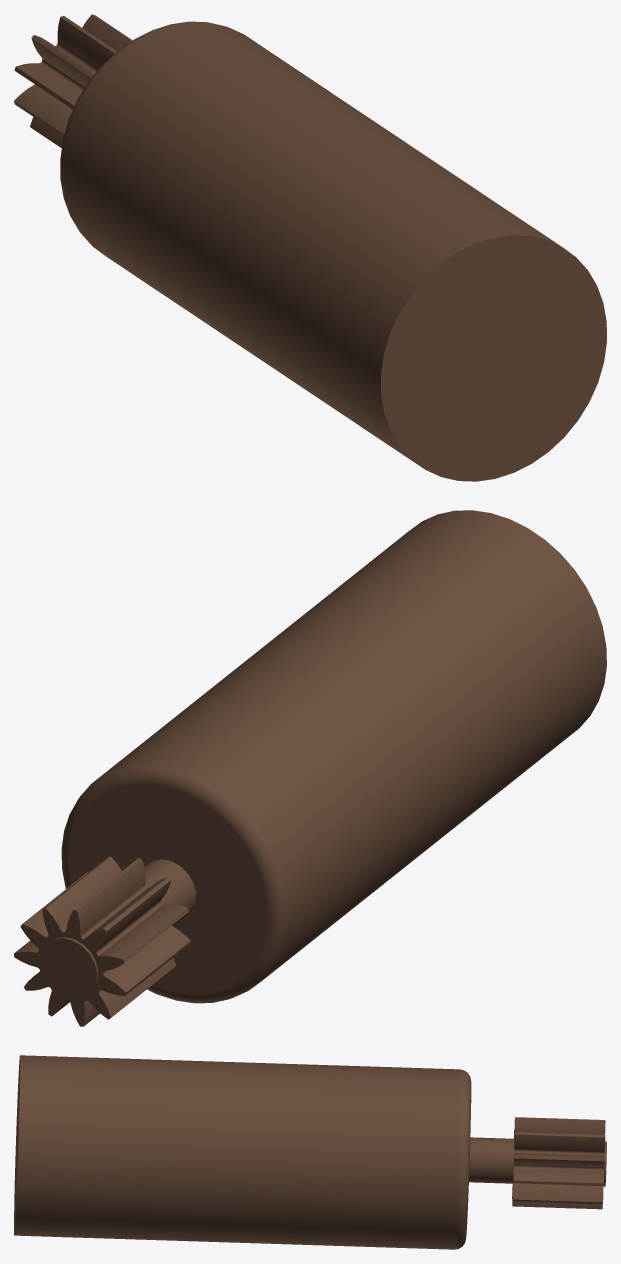
Rendered from Gearing.gltf.
The picture shows the model from 3 angles, top to bottom: view 1: azimuth 30°, elevation 25°; view 2: azimuth 150°, elevation 25°; view 3: azimuth 270°, elevation 25°; orthographic projection. The views are drawn at different scales.
Parts seen in each view (by area): view 1: Solid1; view 2: Solid1; view 3: Solid1.
Part boxes in pixels (x1,y1,x2,y2): Solid1: (14,14,606,481); Solid1: (14,510,606,1026); Solid1: (14,1055,606,1249).
Size of the model in its own units: 0.00798 by 0.00868 by 0.0263.
